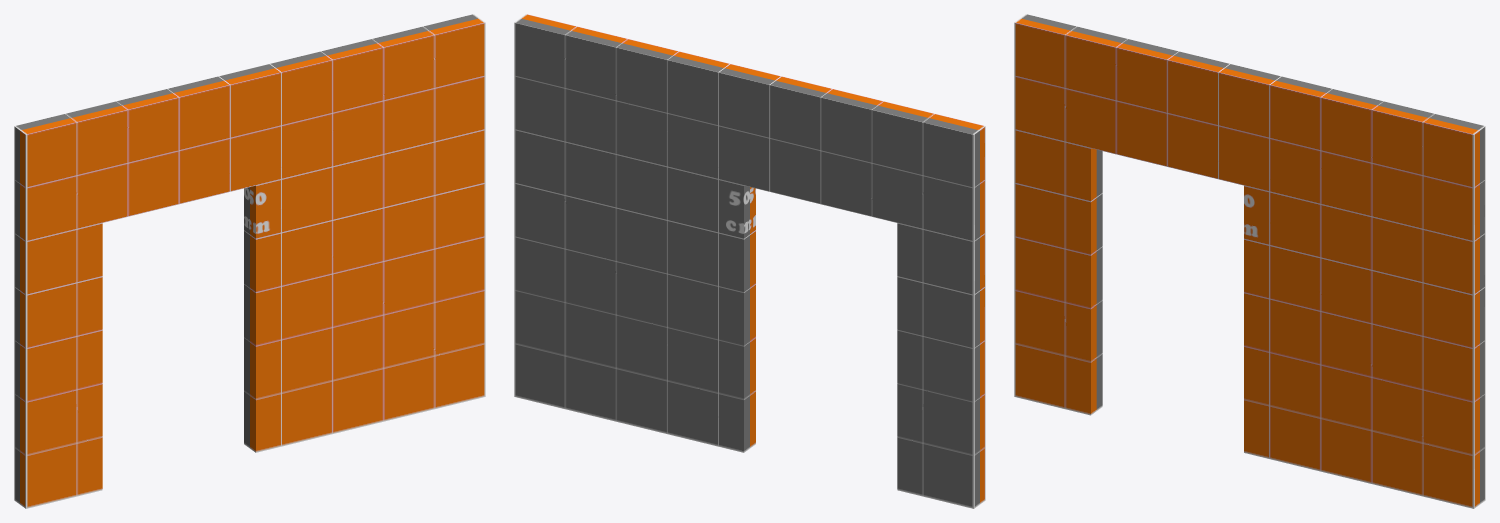
File: M01WallDoorTypeA_2.FBX
3 renders of one model, left to right at view 1: azimuth 30°, elevation 25°; view 2: azimuth 150°, elevation 25°; view 3: azimuth 330°, elevation 25°, orthographic.
Visible parts, largest first — view 1: M01WallDoorTypeA_2; view 2: M01WallDoorTypeA_2; view 3: M01WallDoorTypeA_2.
Part boxes in pixels (x1=…): M01WallDoorTypeA_2: x1=14, y1=14, x2=485, y2=508; M01WallDoorTypeA_2: x1=514, y1=14, x2=985, y2=508; M01WallDoorTypeA_2: x1=1014, y1=14, x2=1485, y2=508.
Size of what is drawn, in the model's own units: 4.5 by 3.5 by 0.2.
